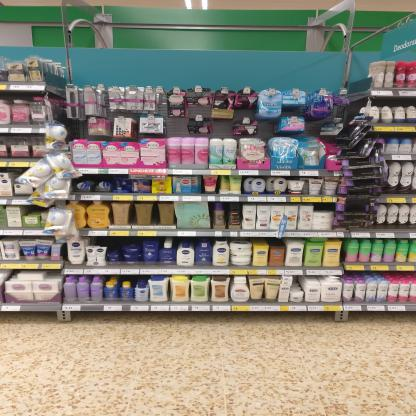Void: (167, 119, 188, 136), (213, 119, 231, 136), (260, 120, 274, 136), (307, 122, 318, 136)
